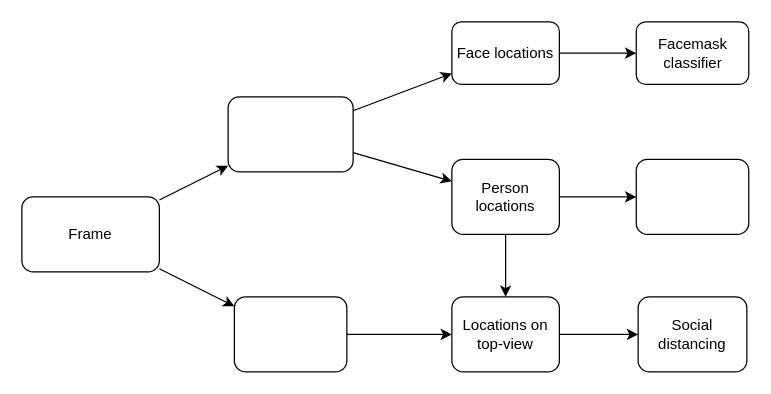
The diagram is 771 pixels wide and 394 high, and some of its shapes have lost their labels. The centre of each missing label's shape, as x and y in pixels:
"Define ROI for top-view" belongs at point 290,334.
"People counter" belongs at point 692,196.
"Person and face detection" belongs at point 290,134.
